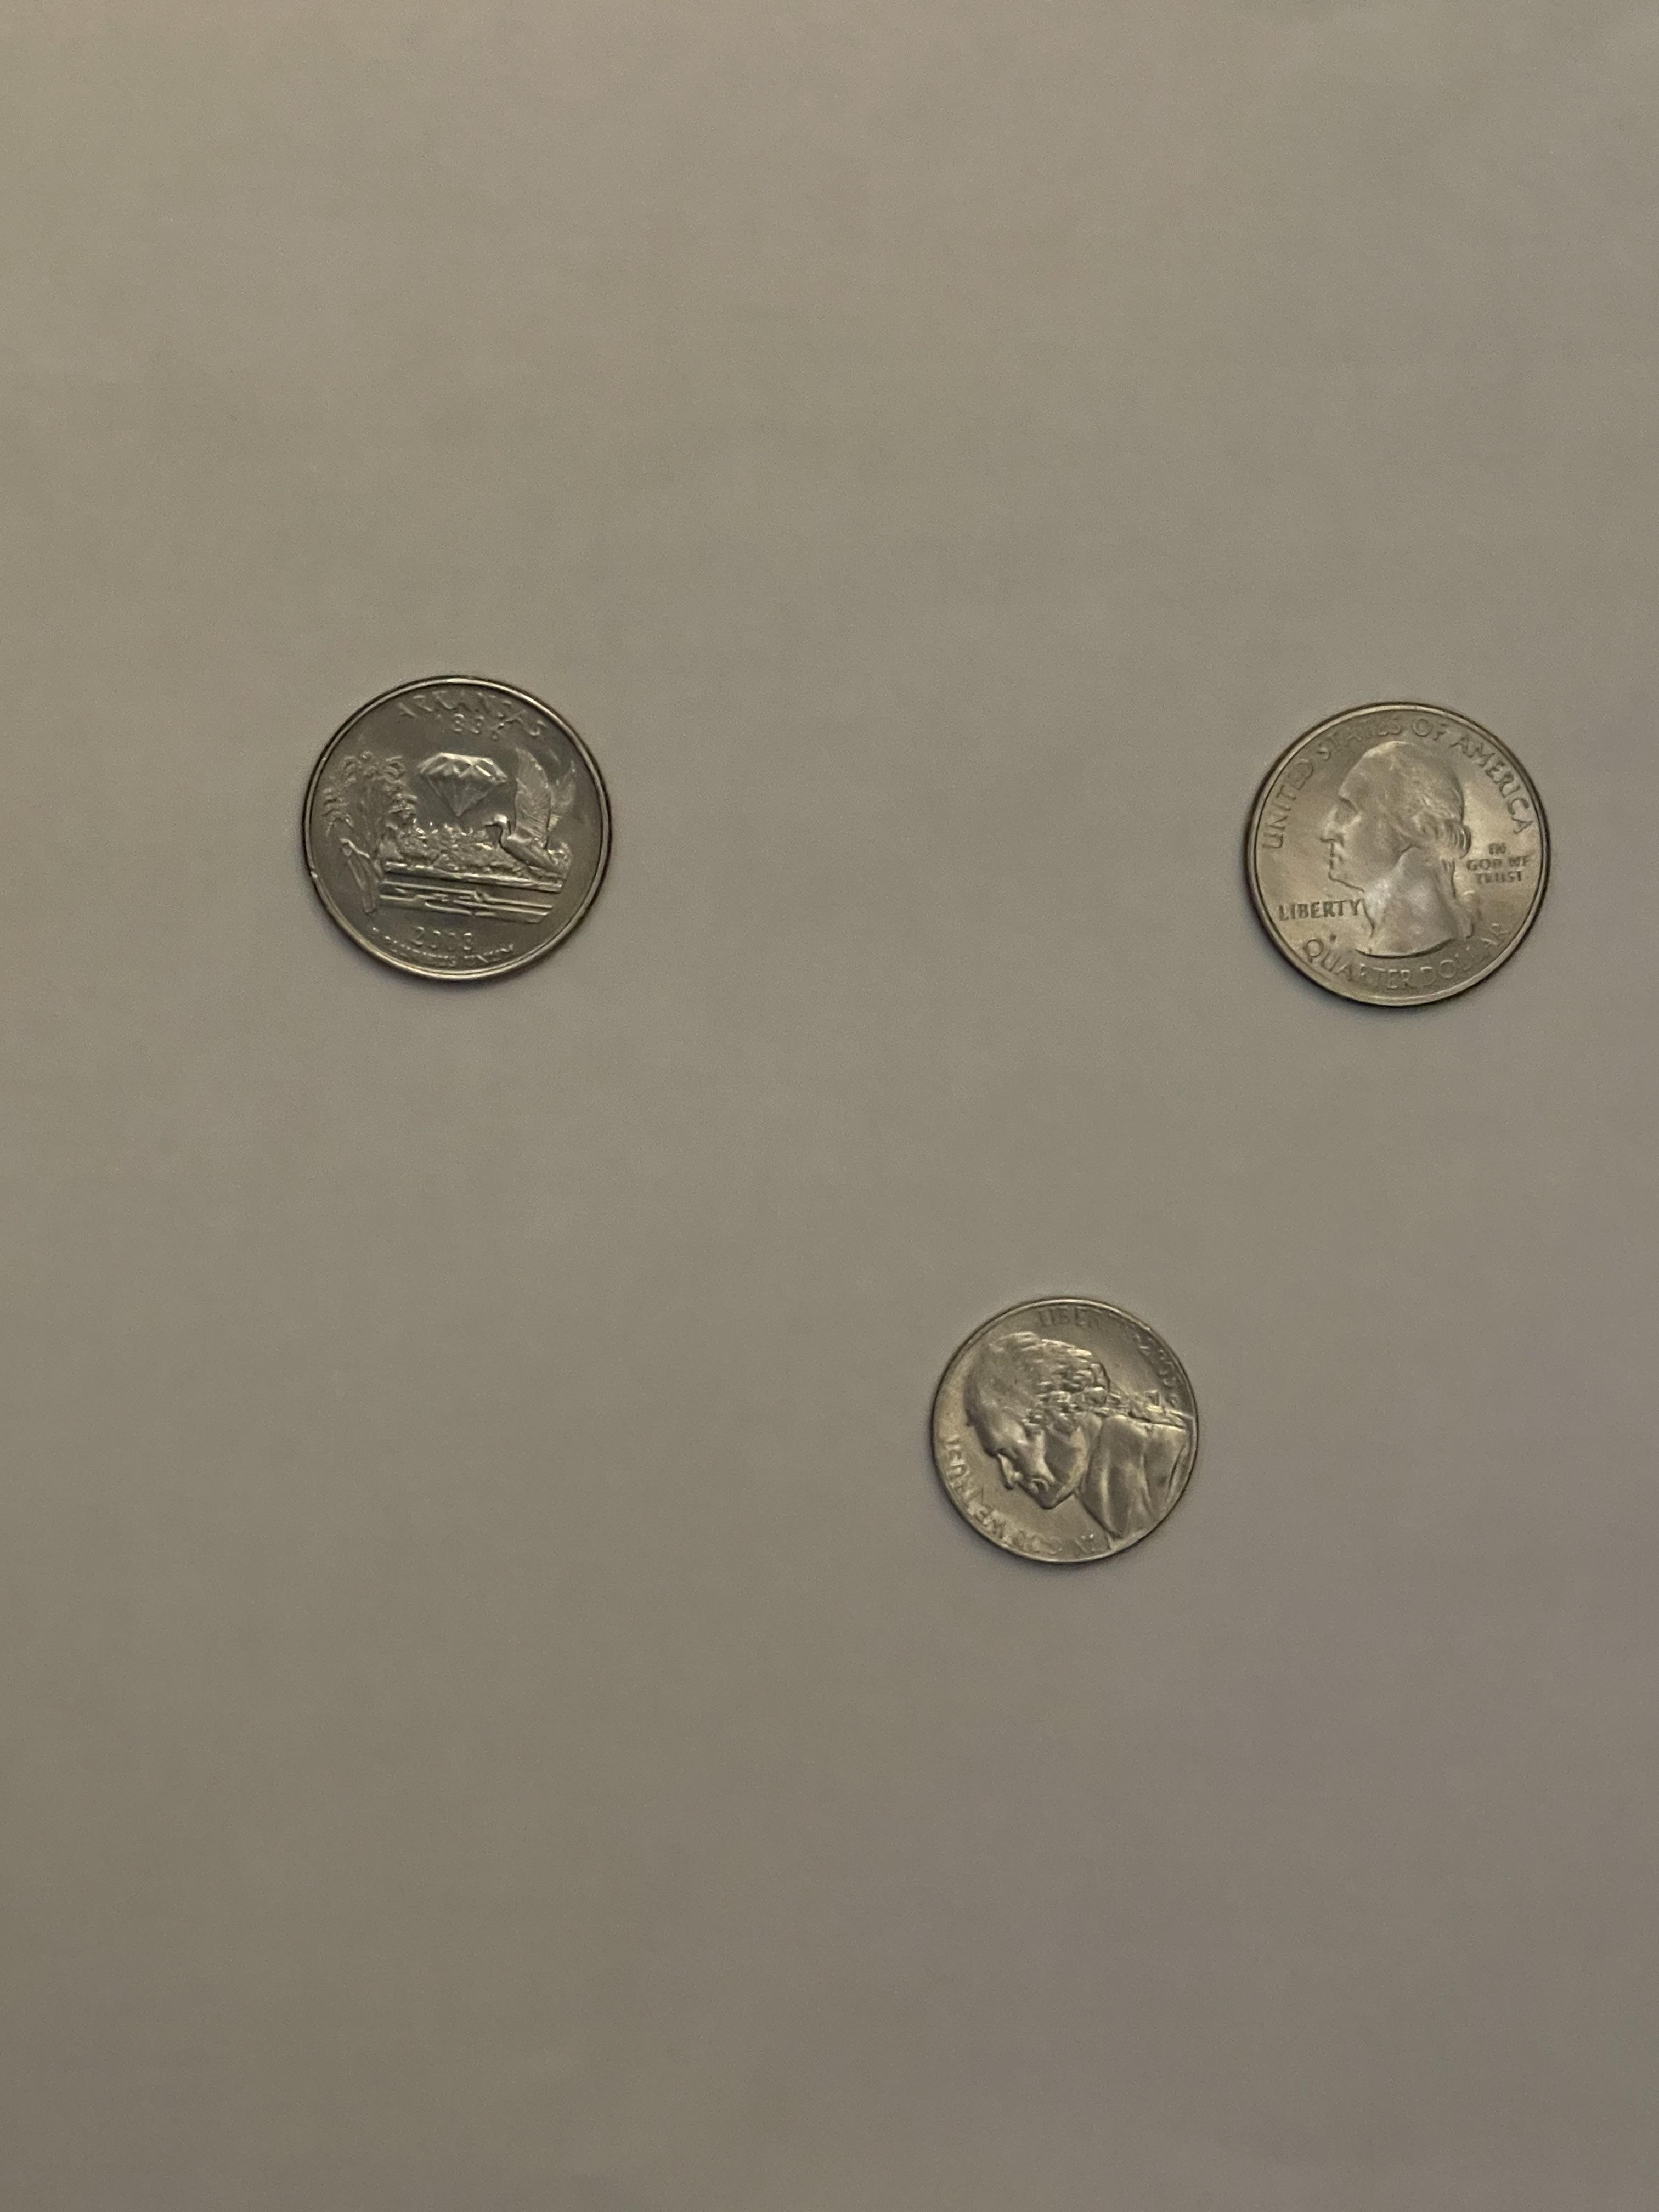Nickel: (931, 1298, 1199, 1566)
Quarter: (301, 674, 613, 982), (1244, 702, 1553, 1008)
